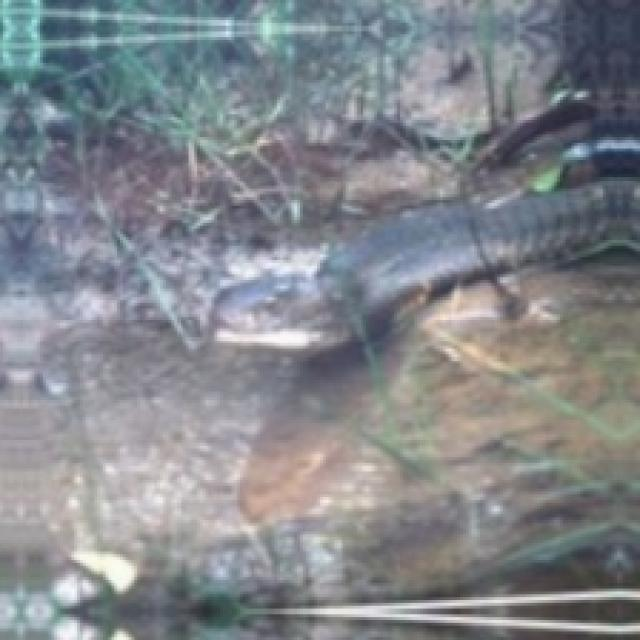king cobra: (314, 177, 637, 337), (317, 177, 637, 334)
